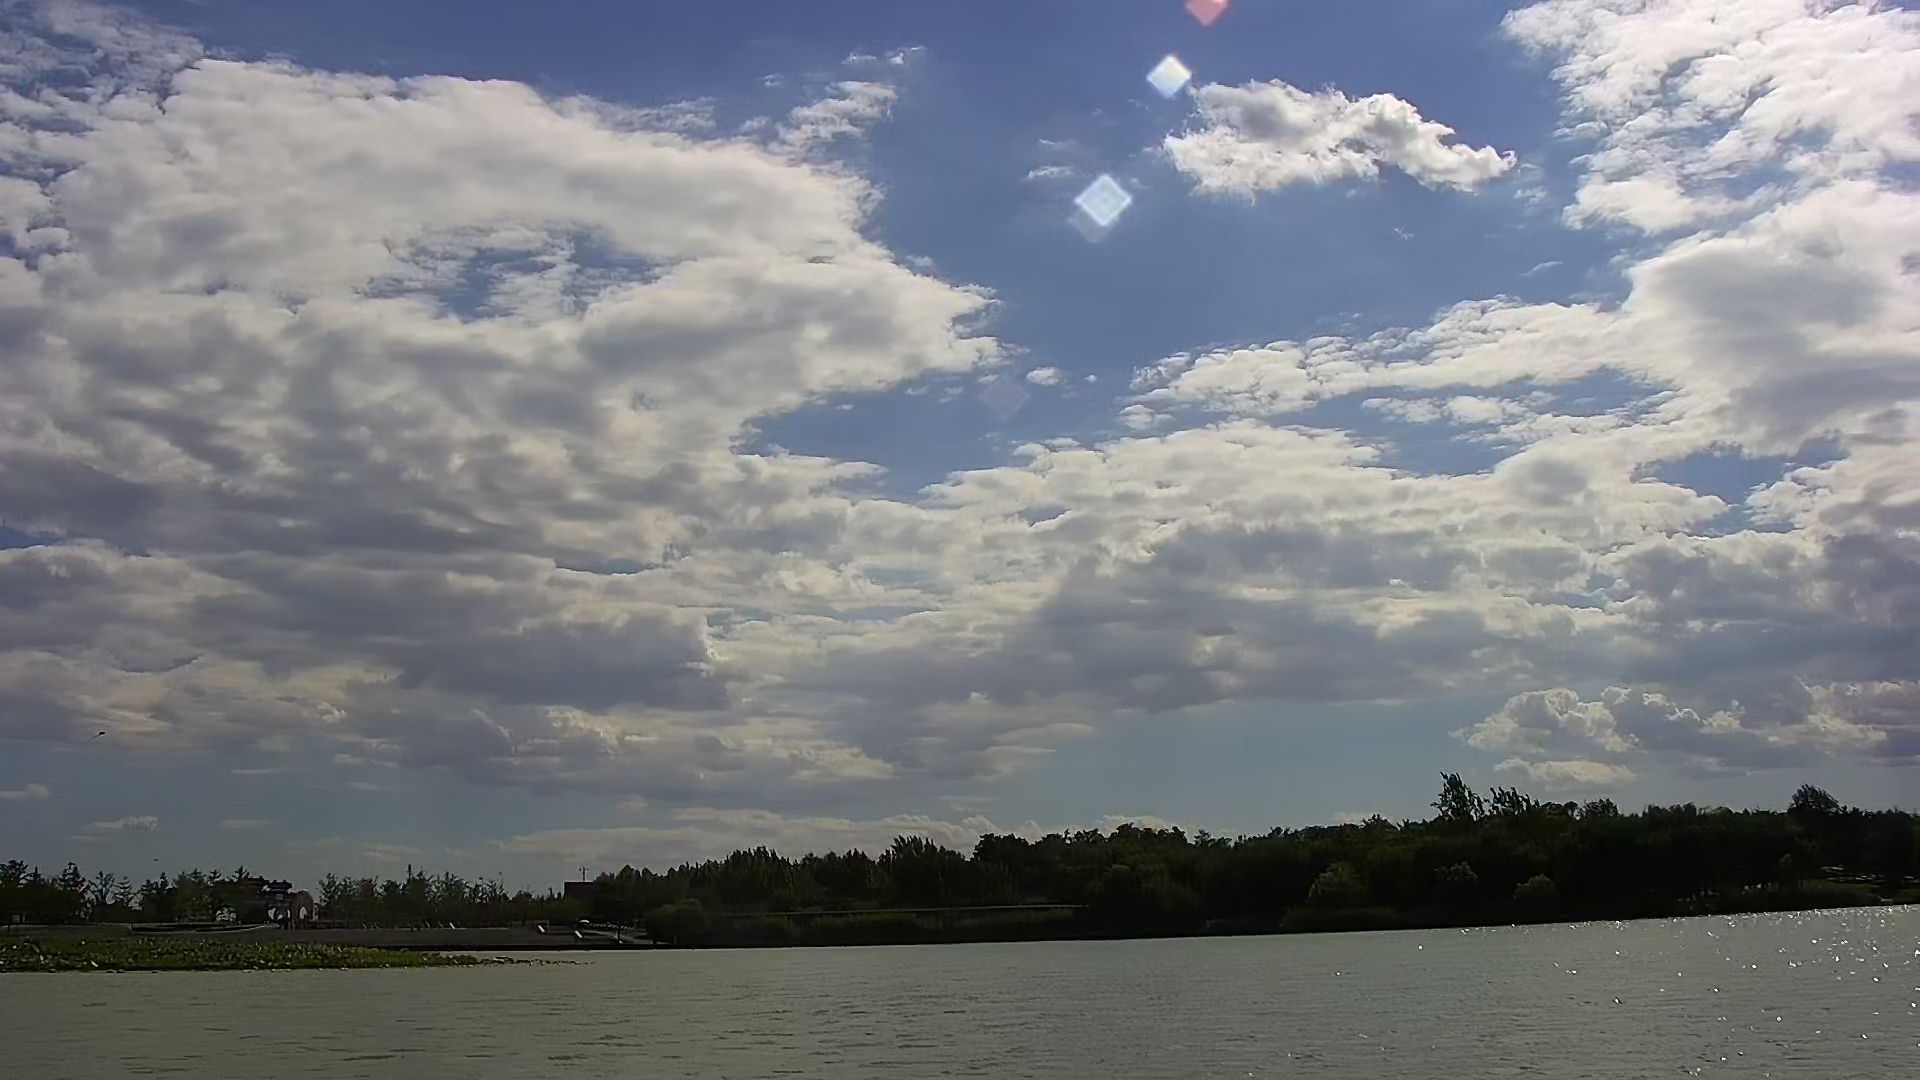harbor: (392, 918, 663, 949)
